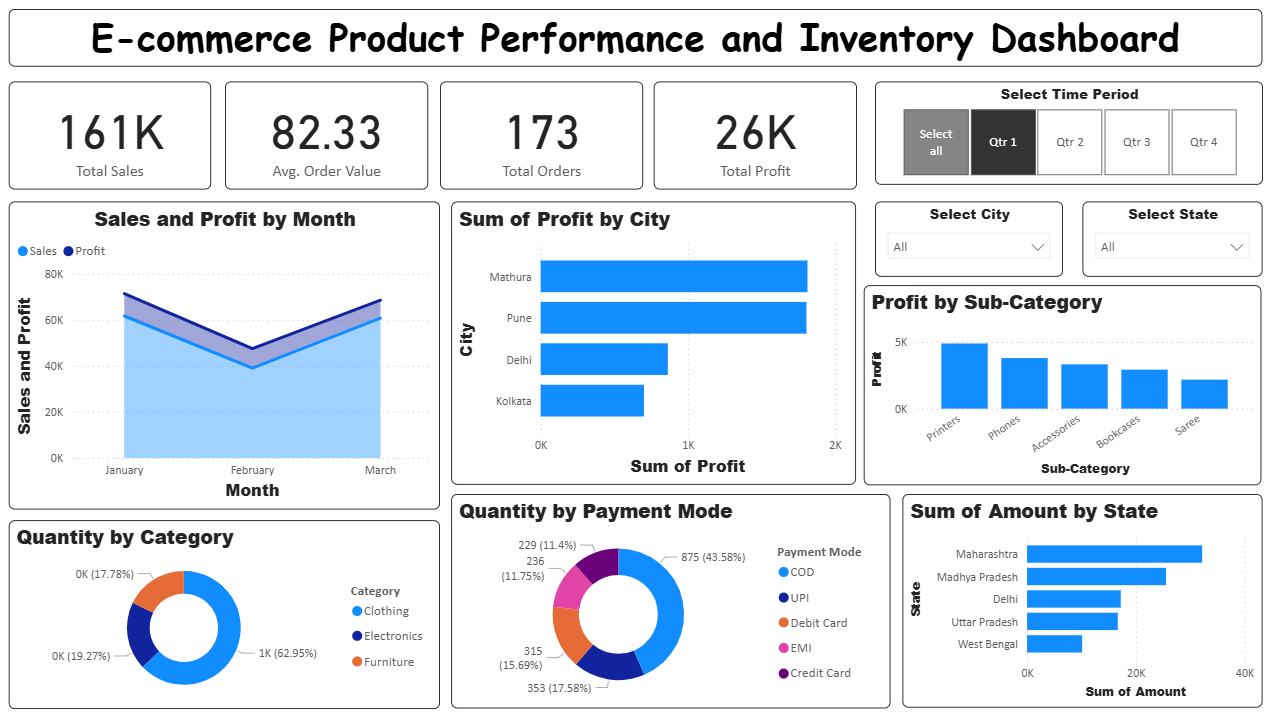

What the dashboard file says about the page in this screenshot:
{"tool":"powerbi","page":{"name":"Page 1","canvas":[1280,720],"ordinal":0},"visuals":[{"type":"textbox","box":[13.8,10,1253.8,57.5],"z":0},{"type":"stackedAreaChart","fields":{"Category":["Orders.Order Date.Variation.Date Hierarchy.Month"],"Y":["Sum(Details.Amount)","Sum(Details.Profit)"]},"box":[14.3,202.4,431,308.3],"z":1000},{"type":"columnChart","fields":{"Category":["Details.Sub-Category"],"Y":["Sum(Details.Profit)"]},"box":[869.1,285.7,397.6,200],"z":2000},{"type":"donutChart","fields":{"Category":["Details.Category"],"Y":["Sum(Details.Quantity)"]},"box":[13.8,521.2,431.2,188.8],"z":3000},{"type":"donutChart","fields":{"Category":["Details.PaymentMode"],"Y":["Sum(Details.Quantity)"]},"box":[456,495.2,439.3,214.3],"z":4000},{"type":"card","fields":{"Values":["Count(Details.Order ID)"]},"box":[445.2,82.1,203.6,108.3],"z":5000},{"type":"card","fields":{"Values":["Sum(Details.Amount)"]},"box":[14.3,82.1,202.4,108.3],"z":6000},{"type":"card","fields":{"Values":["Sum(Details.Profit)"]},"box":[658.3,82.1,203.6,108.3],"z":7000},{"type":"card","fields":{"Values":["Avg(Details.AOV)"]},"box":[229.8,82.1,203.6,108.3],"z":8000},{"type":"barChart","fields":{"Category":["Orders.State"],"Y":["Sum(Details.Amount)"]},"box":[907.5,495,360,213.8],"z":9000},{"type":"barChart","fields":{"Category":["Orders.City"],"Y":["Sum(Details.Profit)"]},"box":[456,202.4,404.8,283.3],"z":10000},{"type":"slicer","title":"Select Time Period","fields":{"Values":["Orders.Order Date.Variation.Date Hierarchy.Quarter"]},"box":[879.8,82.1,388.1,103.6],"z":11000},{"type":"slicer","title":"Select State","fields":{"Values":["Orders.State"]},"box":[1086.9,202.4,179.8,75],"z":12000},{"type":"slicer","title":"Select City","fields":{"Values":["Orders.City"]},"box":[879.8,202.4,188.1,75],"z":13000}]}

Visuals, with their boxes in screenshot pixels (x1, y1, x2, y2), scaled from the page's 1280x720 canvas onto the 1271x712 screenshot:
textbox: bbox=(14, 10, 1259, 67)
stackedAreaChart - Orders.Order Date.Variation.Date Hierarchy.Month x Sum(Details.Amount): bbox=(14, 200, 442, 505)
columnChart - Details.Sub-Category x Sum(Details.Profit): bbox=(863, 283, 1258, 480)
donutChart - Details.Category x Sum(Details.Quantity): bbox=(14, 515, 442, 702)
donutChart - Details.PaymentMode x Sum(Details.Quantity): bbox=(453, 490, 889, 702)
card - Count(Details.Order ID): bbox=(442, 81, 644, 188)
card - Sum(Details.Amount): bbox=(14, 81, 215, 188)
card - Sum(Details.Profit): bbox=(654, 81, 856, 188)
card - Avg(Details.AOV): bbox=(228, 81, 430, 188)
barChart - Orders.State x Sum(Details.Amount): bbox=(901, 490, 1259, 701)
barChart - Orders.City x Sum(Details.Profit): bbox=(453, 200, 855, 480)
"Select Time Period" slicer: bbox=(874, 81, 1259, 184)
"Select State" slicer: bbox=(1079, 200, 1258, 274)
"Select City" slicer: bbox=(874, 200, 1060, 274)
